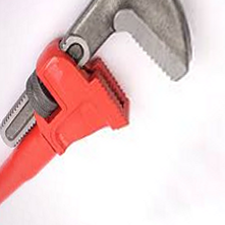wrench: (8, 2, 205, 189)
